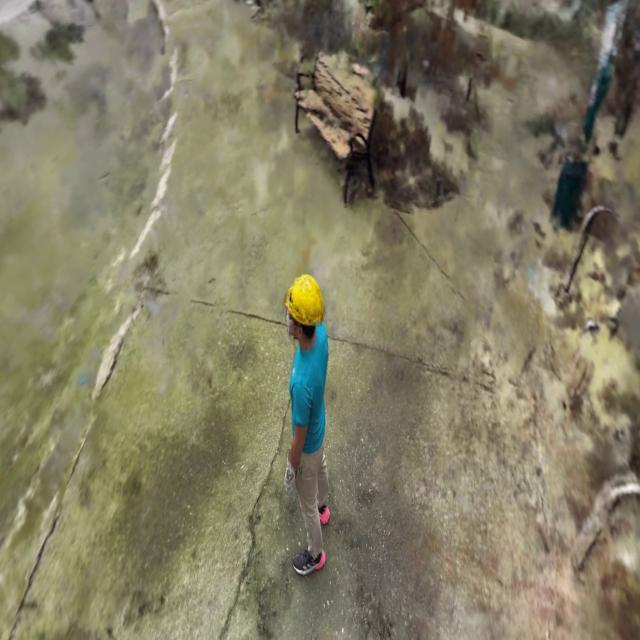gloves: (282, 451, 297, 504)
helmet: (286, 271, 324, 326)
